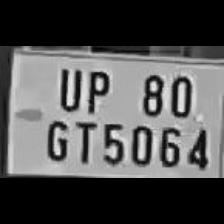0: (164, 70, 194, 119), (127, 120, 153, 168)
4: (182, 122, 210, 170)
5: (96, 119, 124, 166)
6: (154, 120, 182, 170)
8: (136, 68, 166, 118)
G: (42, 116, 70, 162)
P: (82, 64, 112, 114)
T: (71, 117, 95, 163)
U: (52, 62, 82, 112)
